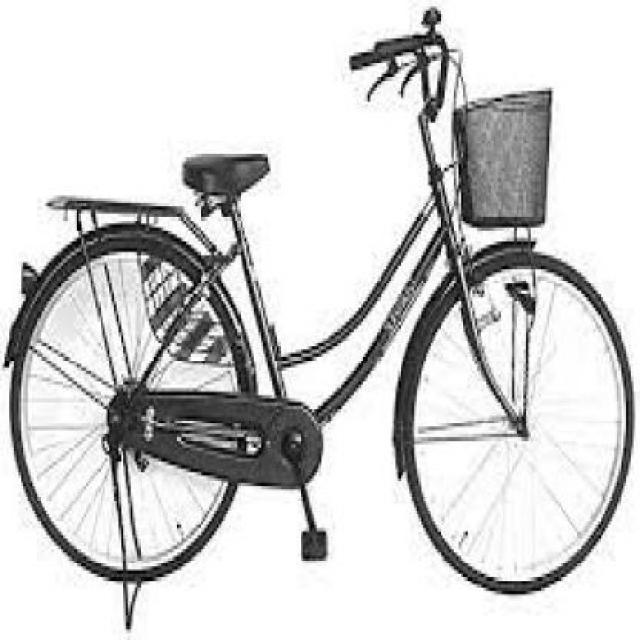bicycle: (11, 32, 634, 621)
